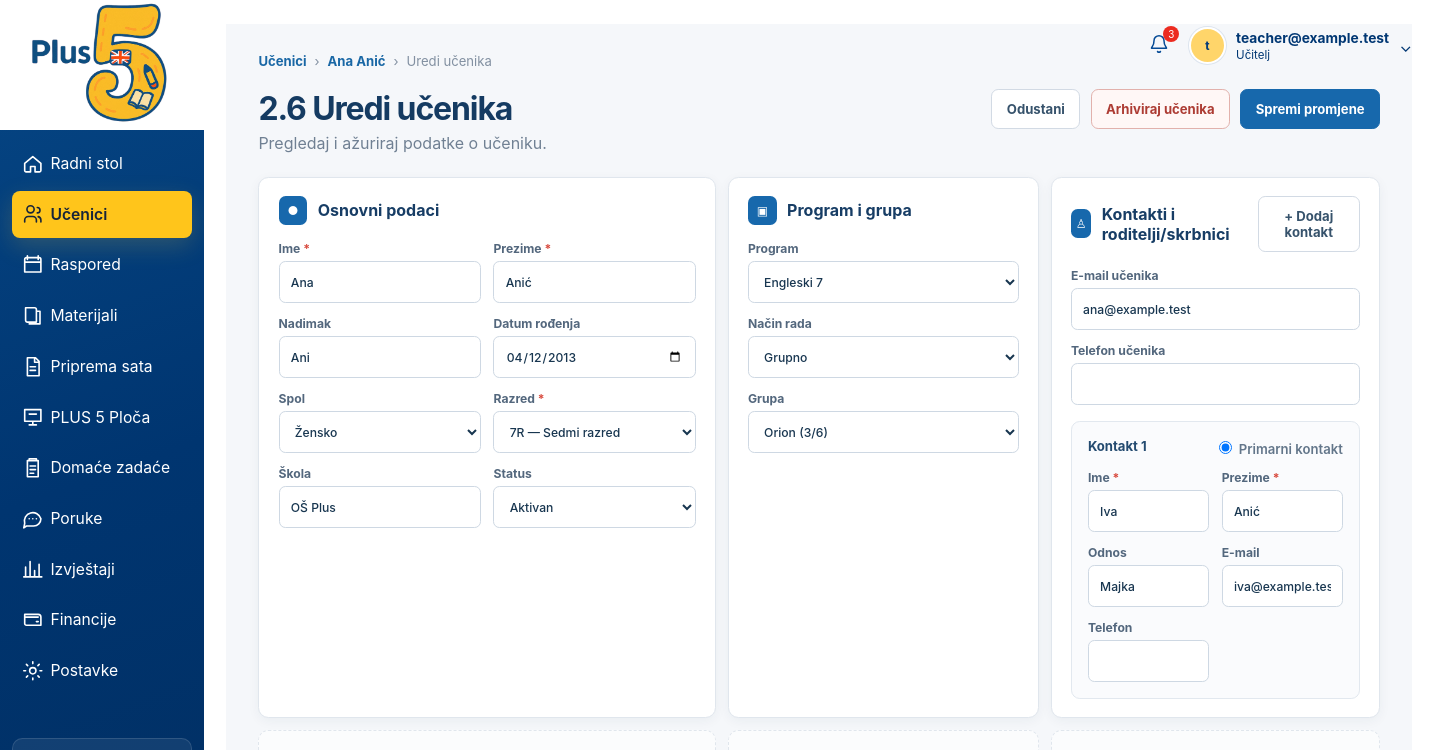
it: student editing › shows an explicit archive confirmation and honest future boundaries
Check: the heading "2.6 Uredi učenika" is shown, box [258,89,547,128]
Click the button "Arhiviraj učenika" at (1160, 109), box [1091,89,1230,129]
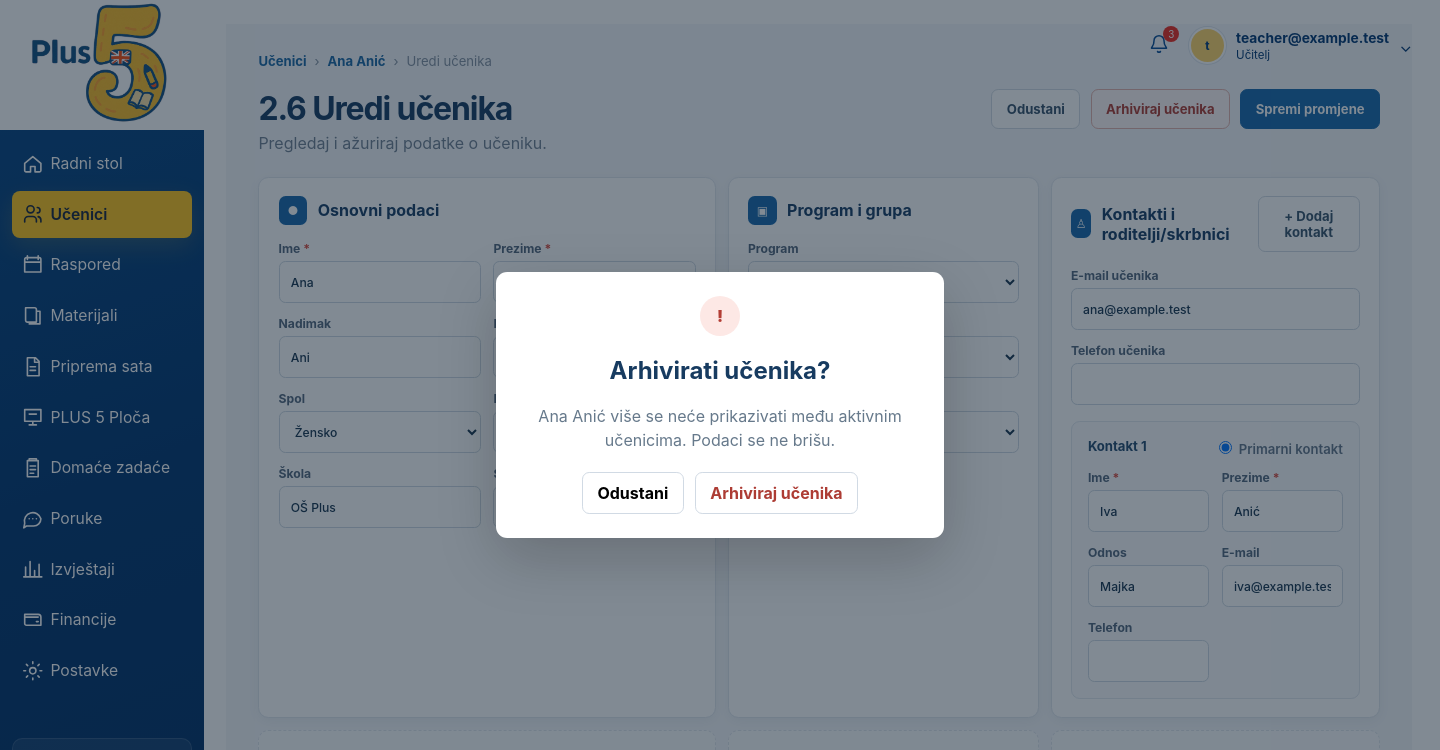
Check: the dialog "Arhivirati učenika?" is shown, box [496,272,944,538]
Check: the text "Podaci se ne brišu" is shown, box [605,406,902,450]
